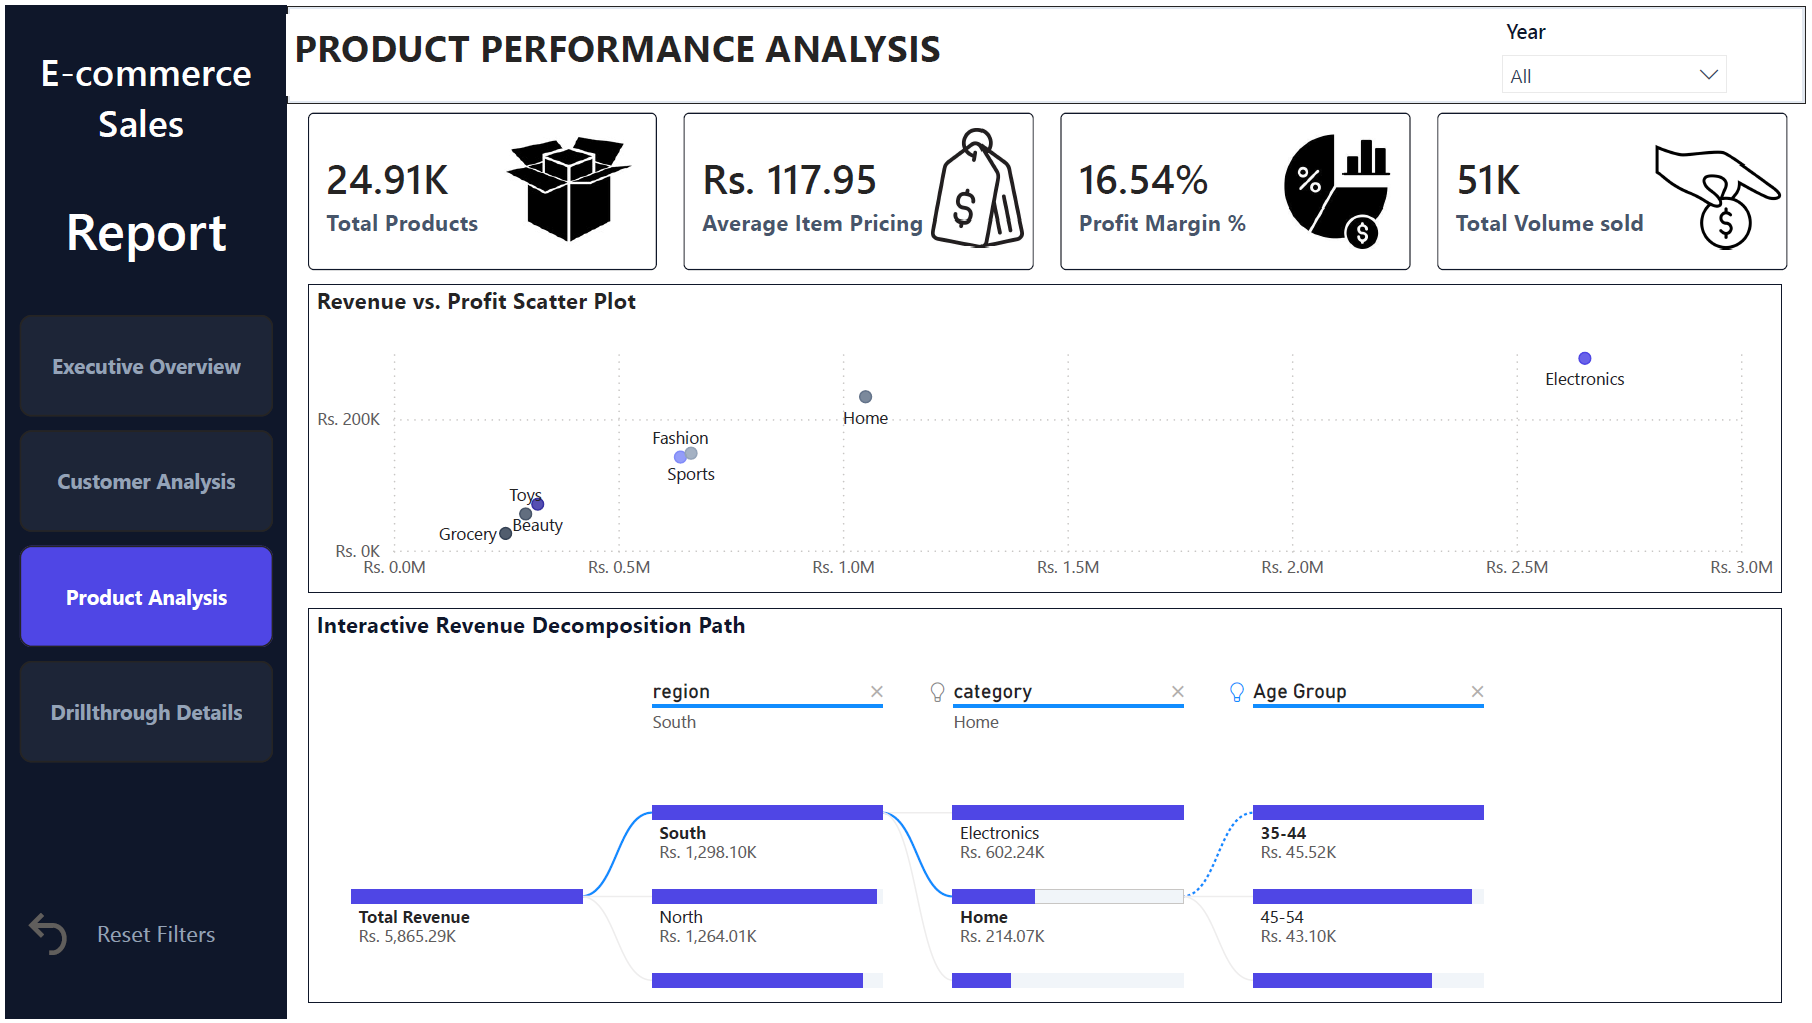

Layout of this report page (visuals, bound fields, positions):
{"tool":"powerbi","page":{"name":"Product Analysis","canvas":[1280,720],"ordinal":2},"visuals":[{"type":"shape","box":[0,0,200,720],"z":0},{"type":"pageNavigator","box":[10,220,180,320],"z":1000},{"type":"actionButton","box":[10,640,100,40],"z":2000},{"type":"textbox","box":[59.9,644.4,100.3,35.5],"z":3000},{"type":"shape","box":[200,0,1080,70],"z":4000},{"type":"textbox","box":[200,6.2,491.2,57.5],"z":5000},{"type":"slicer","fields":{"Values":["Dim_Calendar.Year"]},"box":[1053.8,2.5,180,63.8],"z":6000},{"type":"cardVisual","fields":{"Data":["Count(Dim_Product.product_id)"]},"box":[202.5,63.8,272.5,136.2],"z":7000},{"type":"cardVisual","fields":{"Data":["Avg(Dim_Product.price)"]},"box":[470.5,63.8,272.5,136.2],"z":8000},{"type":"scatterChart","title":"Revenue vs. Profit Scatter Plot","fields":{"Category":["Dim_Product.category"],"X":["_Measures.Total Revenue"],"Y":["_Measures.Total Profit"]},"box":[215.2,190.8,1048,227.4],"z":9000},{"type":"decompositionTreeVisual","title":"Interactive Revenue Decomposition Path","fields":{"Analyze":["_Measures.Total Revenue"],"ExplainBy":["Dim_Location.region","Dim_Product.category","Dim_Customer.Age Group"]},"box":[215.2,428,1048,281.3],"z":10000},{"type":"cardVisual","fields":{"Data":["_Measures.Profit Margin %"]},"box":[738.4,63.8,272.5,136.2],"z":11000},{"type":"cardVisual","fields":{"Data":["_Measures.Total Quantity Sold"]},"box":[1006.4,63.8,272.5,136.2],"z":12000},{"type":"image","box":[354.6,73.4,90.5,117.4],"z":13000},{"type":"image","box":[654.2,86.8,73.4,85.6],"z":14000},{"type":"image","box":[887.8,89.3,118.6,85.6],"z":15000},{"type":"image","box":[1171.5,92.9,91.7,81.9],"z":16000},{"type":"textbox","box":[9.8,6.1,179.8,192],"z":17000}]}

Visuals, with their boxes on the page's 1280x720 design canvas (x1, y1, x2, y2). These are canvas units, not pixel positions in the 1812x1023 screenshot, which may show the page scaled, cropped or inside an application window:
shape: (left=0, top=0, right=200, bottom=720)
pageNavigator: (left=10, top=220, right=190, bottom=540)
actionButton: (left=10, top=640, right=110, bottom=680)
textbox: (left=60, top=644, right=160, bottom=680)
shape: (left=200, top=0, right=1280, bottom=70)
textbox: (left=200, top=6, right=691, bottom=64)
slicer - Dim_Calendar.Year: (left=1054, top=2, right=1234, bottom=66)
cardVisual - Count(Dim_Product.product_id): (left=202, top=64, right=475, bottom=200)
cardVisual - Avg(Dim_Product.price): (left=470, top=64, right=743, bottom=200)
"Revenue vs. Profit Scatter Plot" scatterChart: (left=215, top=191, right=1263, bottom=418)
"Interactive Revenue Decomposition Path" decompositionTreeVisual: (left=215, top=428, right=1263, bottom=709)
cardVisual - _Measures.Profit Margin %: (left=738, top=64, right=1011, bottom=200)
cardVisual - _Measures.Total Quantity Sold: (left=1006, top=64, right=1279, bottom=200)
image: (left=355, top=73, right=445, bottom=191)
image: (left=654, top=87, right=728, bottom=172)
image: (left=888, top=89, right=1006, bottom=175)
image: (left=1172, top=93, right=1263, bottom=175)
textbox: (left=10, top=6, right=190, bottom=198)
